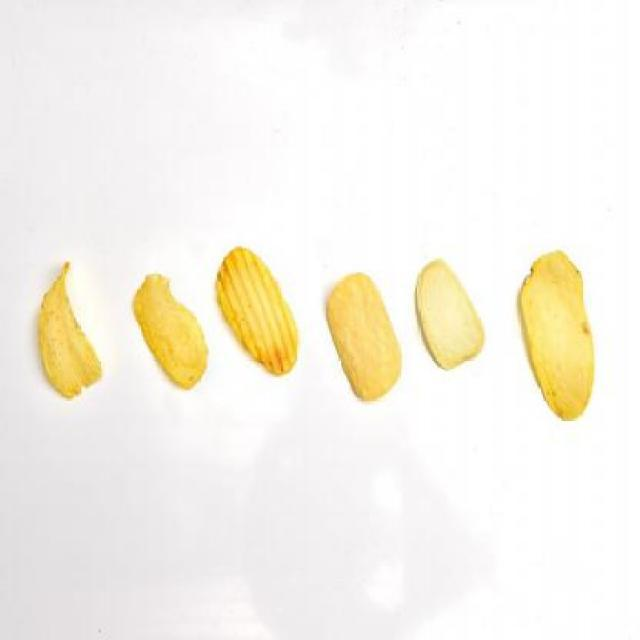Chips packaged: (516, 240, 596, 426), (209, 241, 300, 387), (322, 267, 407, 402), (33, 259, 109, 404), (131, 267, 214, 395), (410, 253, 488, 384)
